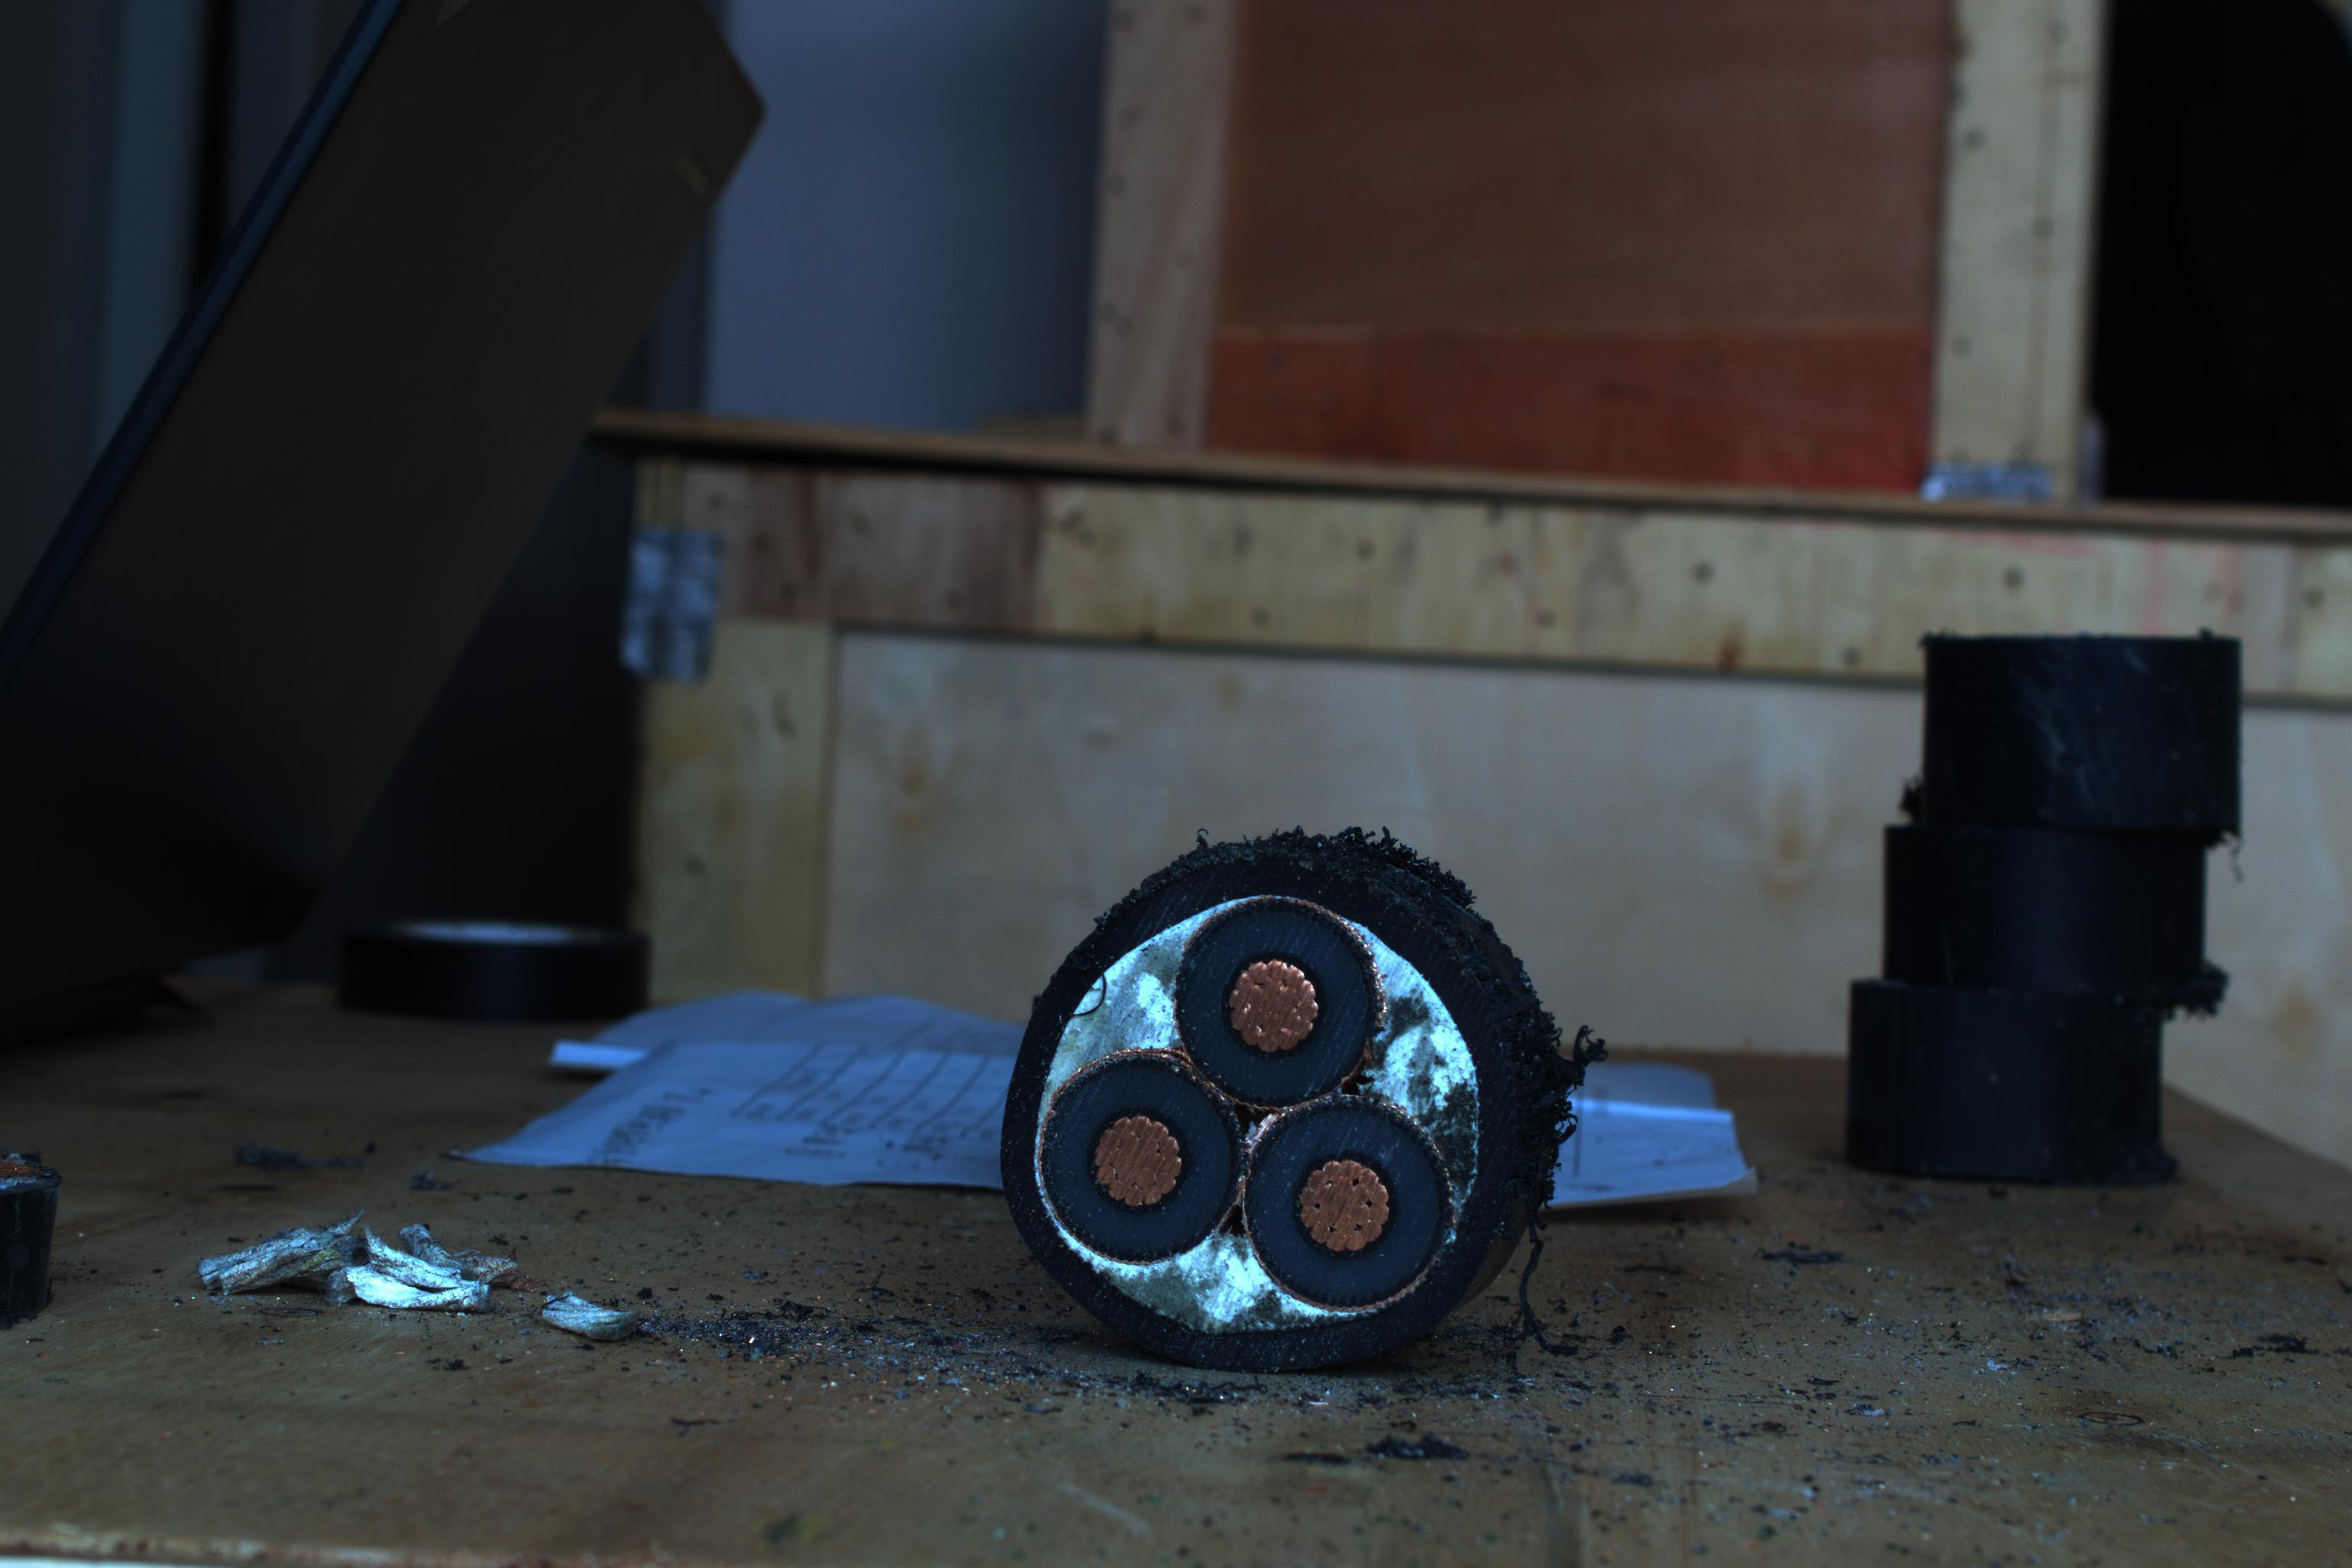YJV_8.7_10kV_3x70: (1022, 861, 1528, 1349)
